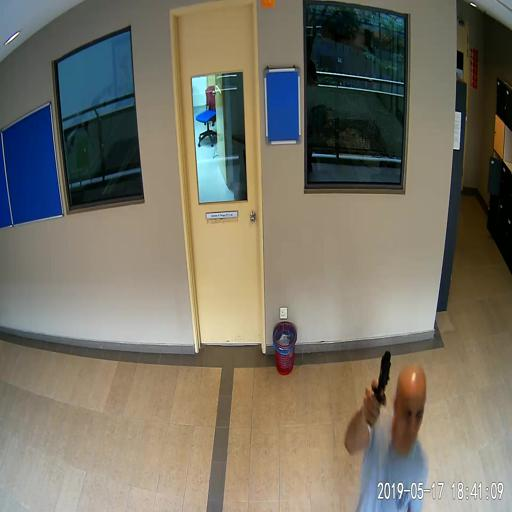pistol: (369, 349, 391, 409)
